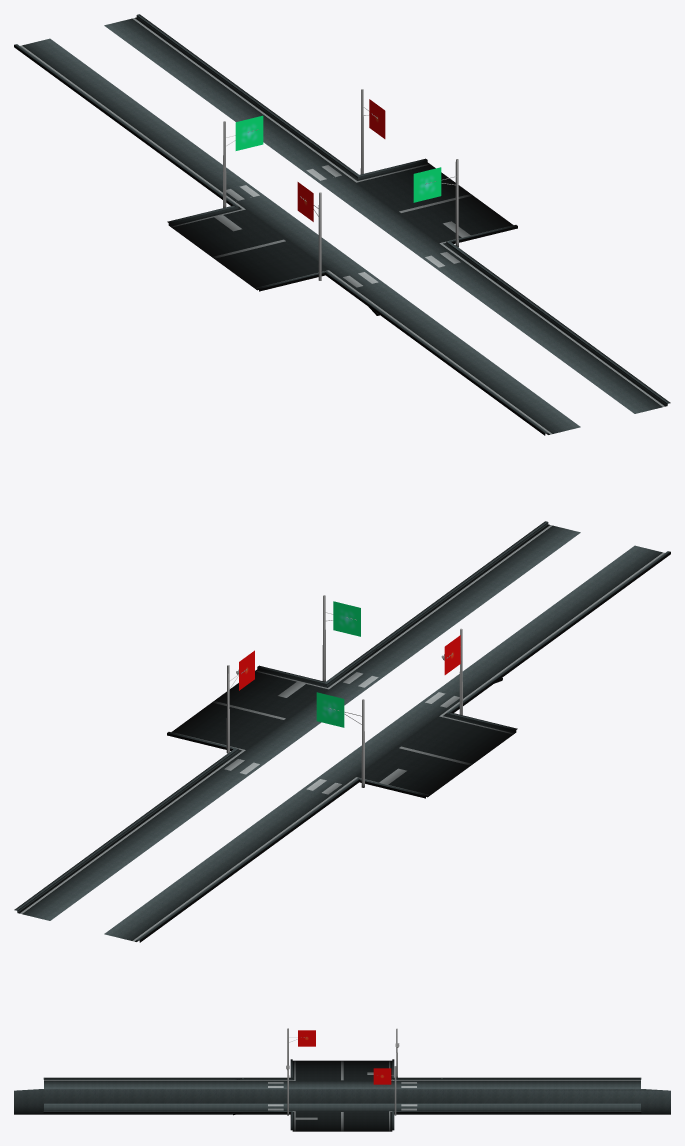
The model's file is K_KAITEN_CROSS.glb.
3 views of the same model, one above another, from view 1: azimuth 30°, elevation 25°; view 2: azimuth 150°, elevation 25°; view 3: azimuth 270°, elevation 25° (orthographic). The views are drawn at different scales.
Parts seen in each view (by area): view 1: romen; view 2: romen; view 3: romen.
Part boxes in pixels (x1,y1,x2,y2): romen: (14, 14, 670, 435); romen: (14, 521, 670, 942); romen: (14, 1028, 670, 1131).
Size of the model in its own units: 84.52 by 41.21 by 330.
5 materials, 5 textured.
